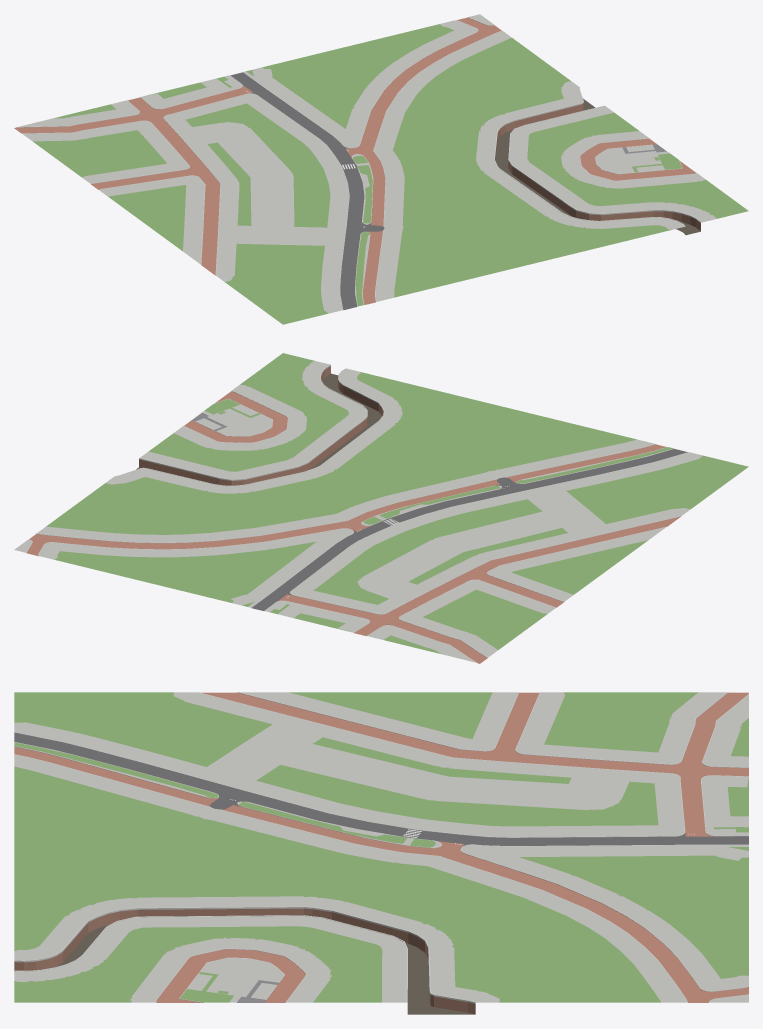
File: ground_12_7.glb
3 renders of one model, top to bottom at view 1: azimuth 30°, elevation 25°; view 2: azimuth 150°, elevation 25°; view 3: azimuth 270°, elevation 25°, orthographic. The views are drawn at different scales.
Visible parts, largest first — view 1: ground_12_7; view 2: ground_12_7; view 3: ground_12_7.
Boxes of the visible parts, bbox=[...] form: ground_12_7: bbox=[14, 14, 748, 324]; ground_12_7: bbox=[14, 353, 748, 663]; ground_12_7: bbox=[14, 692, 748, 1014].
Size of the model in its own units: 200 by 3.68 by 200.
